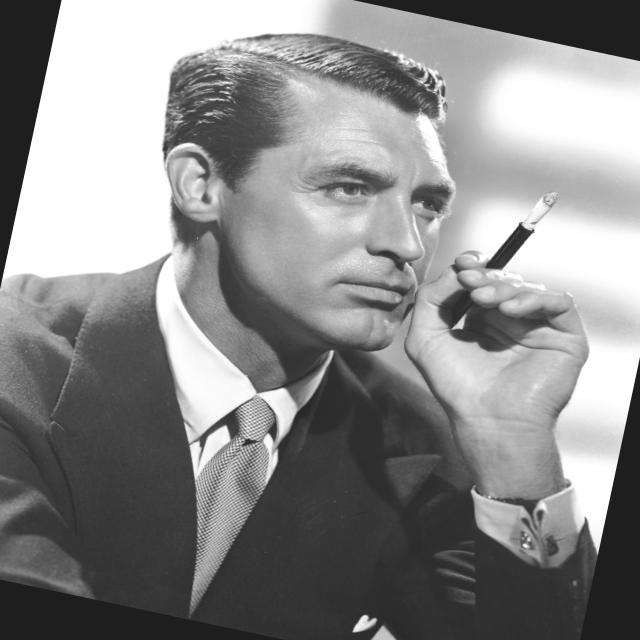smoke: (524, 192, 556, 230)
